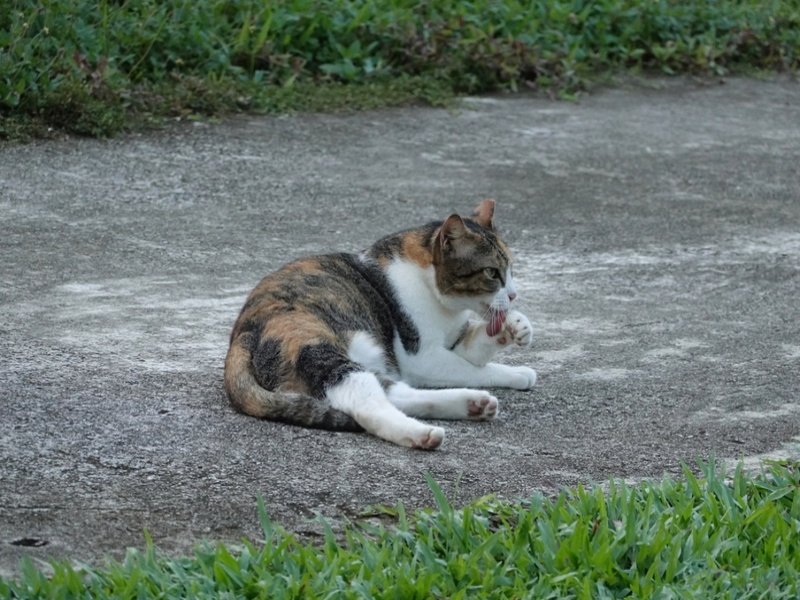cat: (221, 195, 539, 455)
